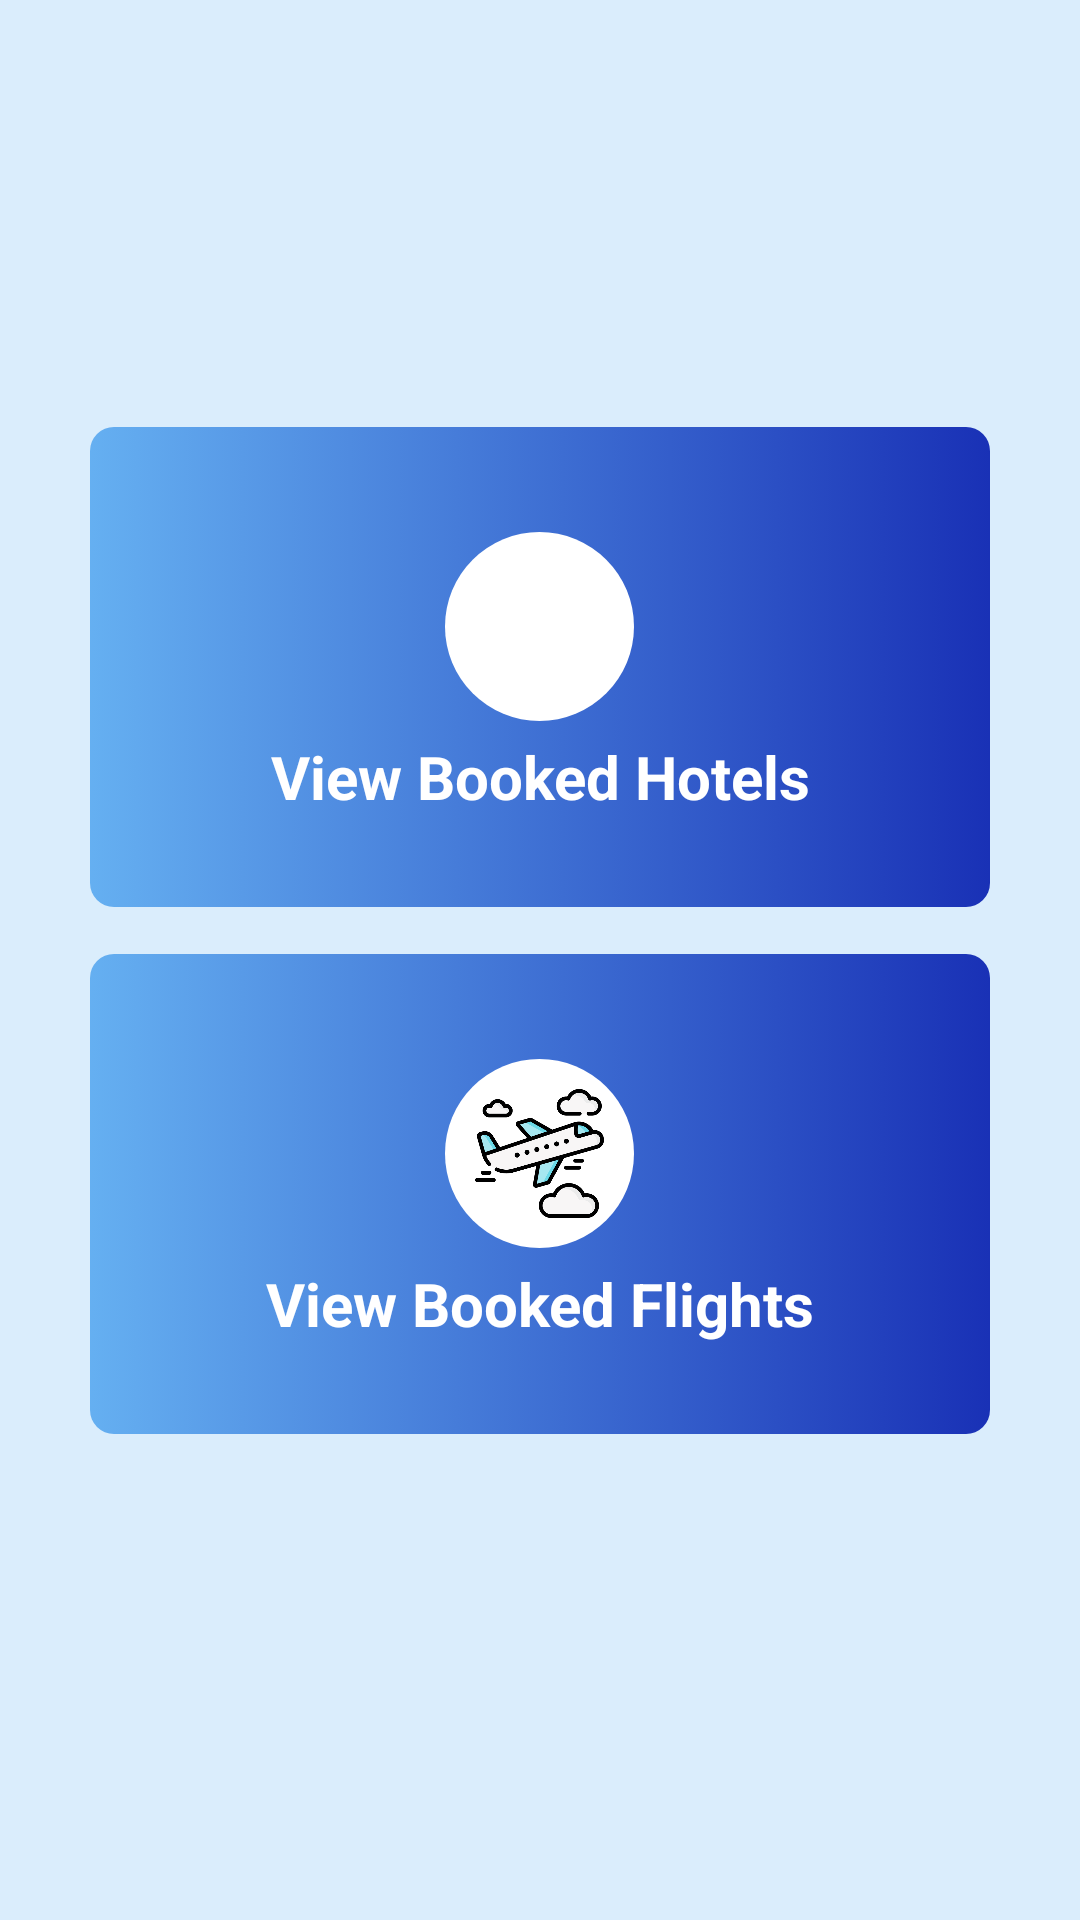

Where icons sit on this 1080w x 1920h app screen, as bbox=(x1, y1, x2, y2):
travel: bbox=(475, 1089, 604, 1218)
